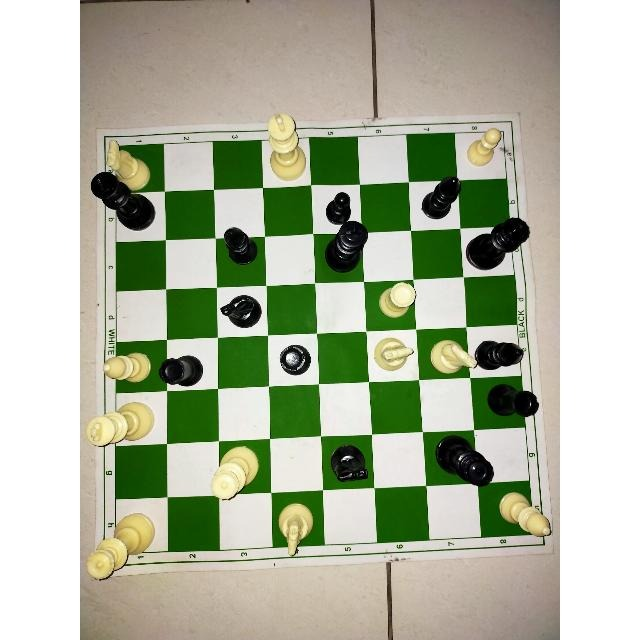black-bishop: (472, 327, 528, 376), (416, 174, 466, 224), (217, 226, 265, 270)
black-king: (89, 171, 155, 231), (325, 220, 371, 274)
black-knight: (324, 439, 373, 488), (213, 288, 266, 332)
black-pawn: (322, 184, 358, 228)
black-queen: (458, 211, 534, 271), (434, 433, 495, 488)
black-rook: (487, 382, 539, 416), (157, 354, 204, 387), (280, 344, 312, 376)
white-bishop: (498, 490, 556, 547), (100, 348, 152, 390)
white-king: (84, 394, 156, 457), (261, 111, 313, 183)
white-knight: (105, 138, 151, 189), (276, 502, 316, 556), (428, 338, 476, 374), (372, 337, 413, 373)
white-pawn: (463, 126, 506, 171)
white-queen: (86, 508, 156, 585), (208, 440, 262, 507)
white-rook: (375, 278, 421, 323)
